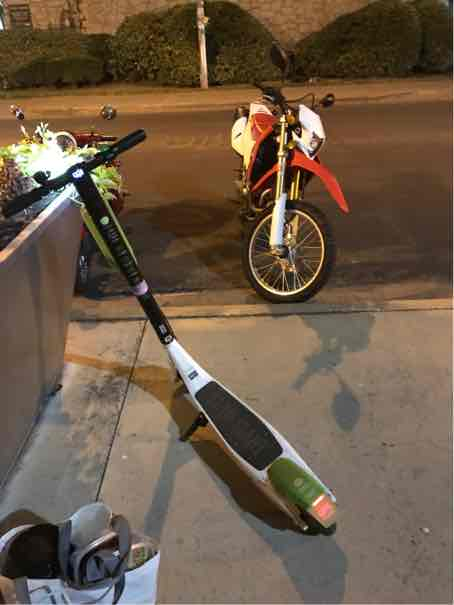scooter: (2, 112, 341, 536)
